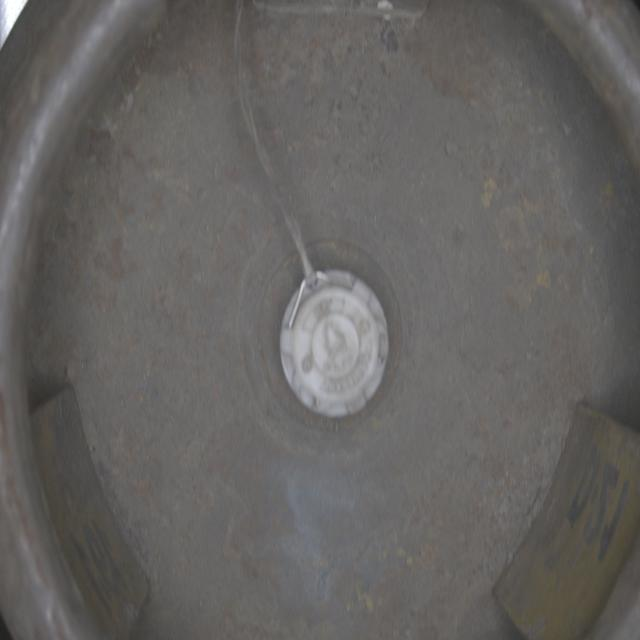Cap: (276, 267, 392, 424)
